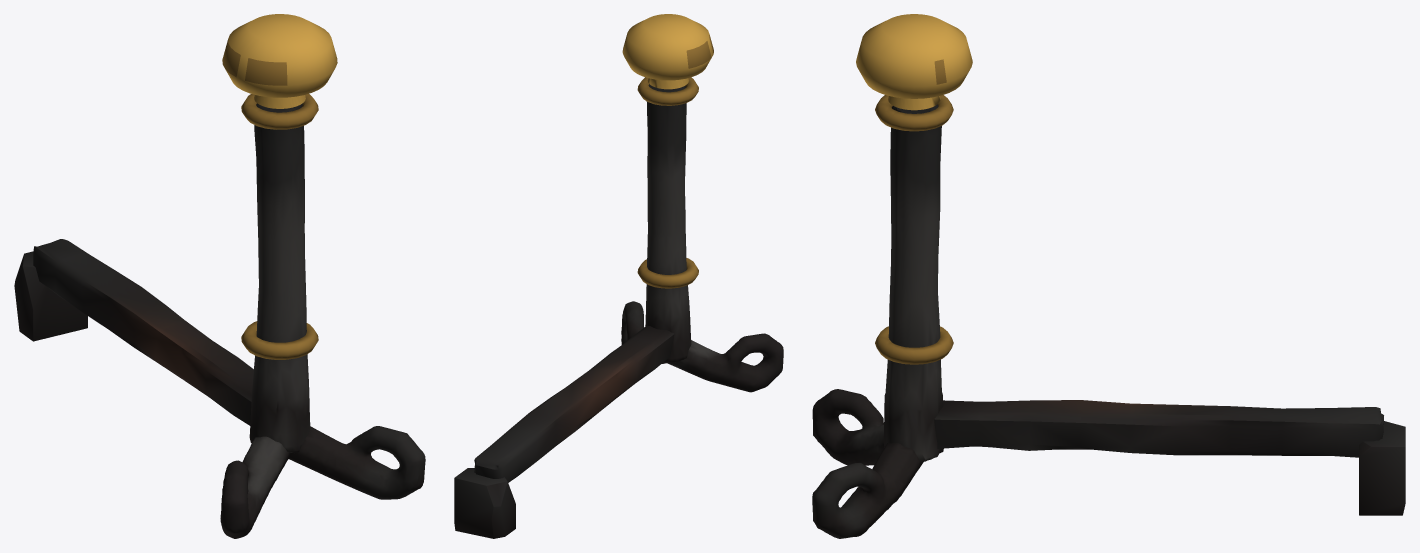
Rendered from ember_firedog.glb.
The picture shows the model from 3 angles, left to right: view 1: azimuth 30°, elevation 25°; view 2: azimuth 150°, elevation 25°; view 3: azimuth 270°, elevation 25°; orthographic projection. The views are drawn at different scales.
Parts seen in each view (by area): view 1: ember_firedog; view 2: ember_firedog; view 3: ember_firedog.
Boxes of the visible parts, box(x1,y1,x2,y2) form: ember_firedog: box(14, 14, 425, 538); ember_firedog: box(454, 14, 783, 538); ember_firedog: box(812, 14, 1405, 538).
Bounding box in the file's own units: 8.03 × 18 × 20.29.
